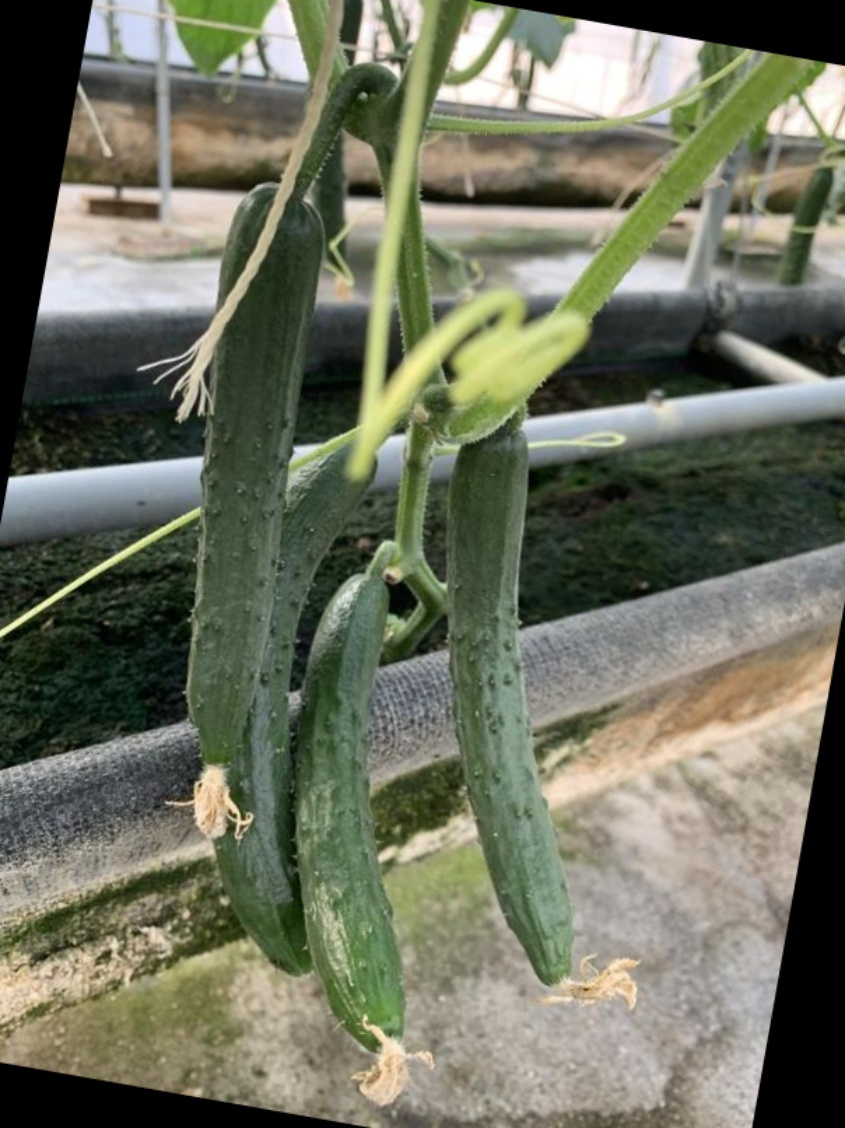mature: (177, 184, 328, 792), (441, 426, 581, 1000)
